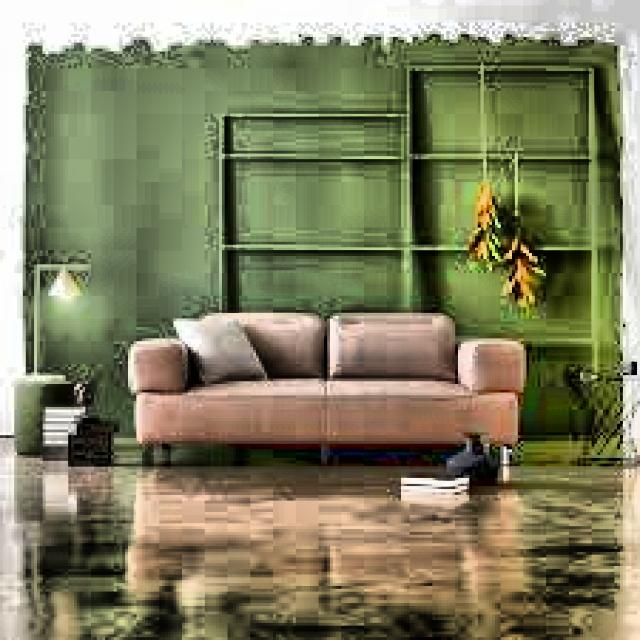sofa: (122, 304, 524, 483)
